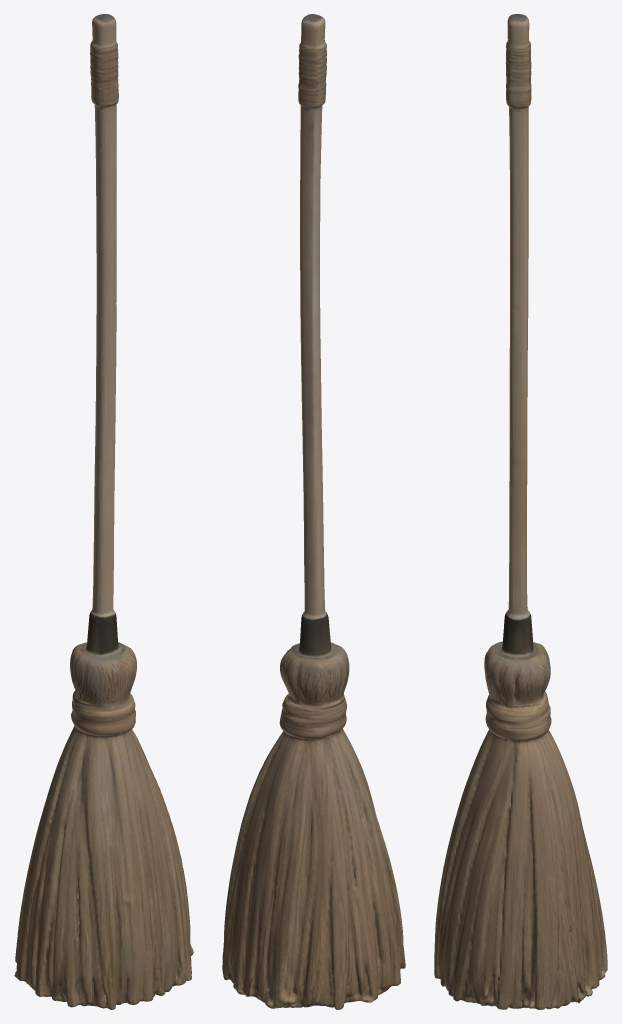
File: detailed_realistic_model_broomstick_02.glb
The picture shows the model from 3 angles, left to right: view 1: azimuth 30°, elevation 25°; view 2: azimuth 150°, elevation 25°; view 3: azimuth 270°, elevation 25°; orthographic projection.
Parts seen in each view (by area): view 1: tripo_node_f5ada6bf-0964-47b6-97f0-f4dd04be9e38; view 2: tripo_node_f5ada6bf-0964-47b6-97f0-f4dd04be9e38; view 3: tripo_node_f5ada6bf-0964-47b6-97f0-f4dd04be9e38.
Boxes of the visible parts, <box> form: tripo_node_f5ada6bf-0964-47b6-97f0-f4dd04be9e38: <box>14,14,193,1009</box>; tripo_node_f5ada6bf-0964-47b6-97f0-f4dd04be9e38: <box>222,14,405,1009</box>; tripo_node_f5ada6bf-0964-47b6-97f0-f4dd04be9e38: <box>434,14,607,1009</box>.
Size of the model in its own units: 0.1689 by 1 by 0.163.
1 material, 1 textured.
